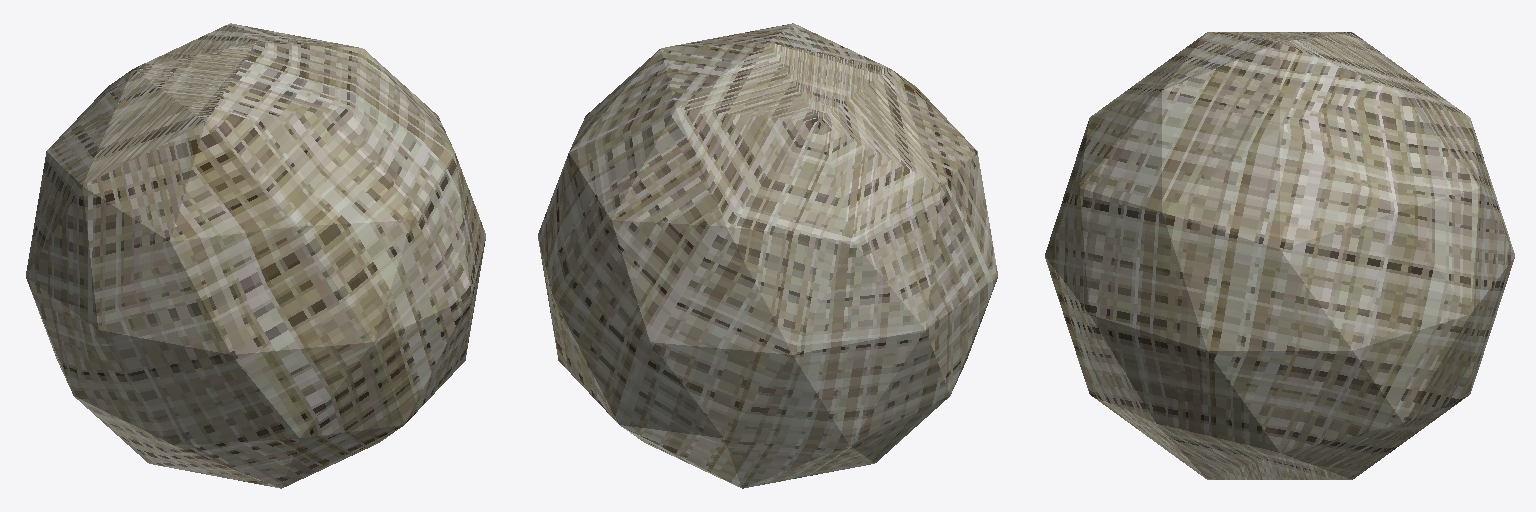
The picture shows the model from 3 angles: view 1: azimuth 30°, elevation 25°; view 2: azimuth 150°, elevation 25°; view 3: azimuth 270°, elevation 25°; orthographic projection.
Parts seen in each view (by area): view 1: Icosphere; view 2: Icosphere; view 3: Icosphere.
Boxes of the visible parts, box(x1,y1,x2,y2) form: Icosphere: box(26, 23, 485, 488); Icosphere: box(538, 23, 997, 488); Icosphere: box(1045, 32, 1514, 479).
Size of the model in its own units: 1.9 by 2 by 2.
1 materials, 1 textured.